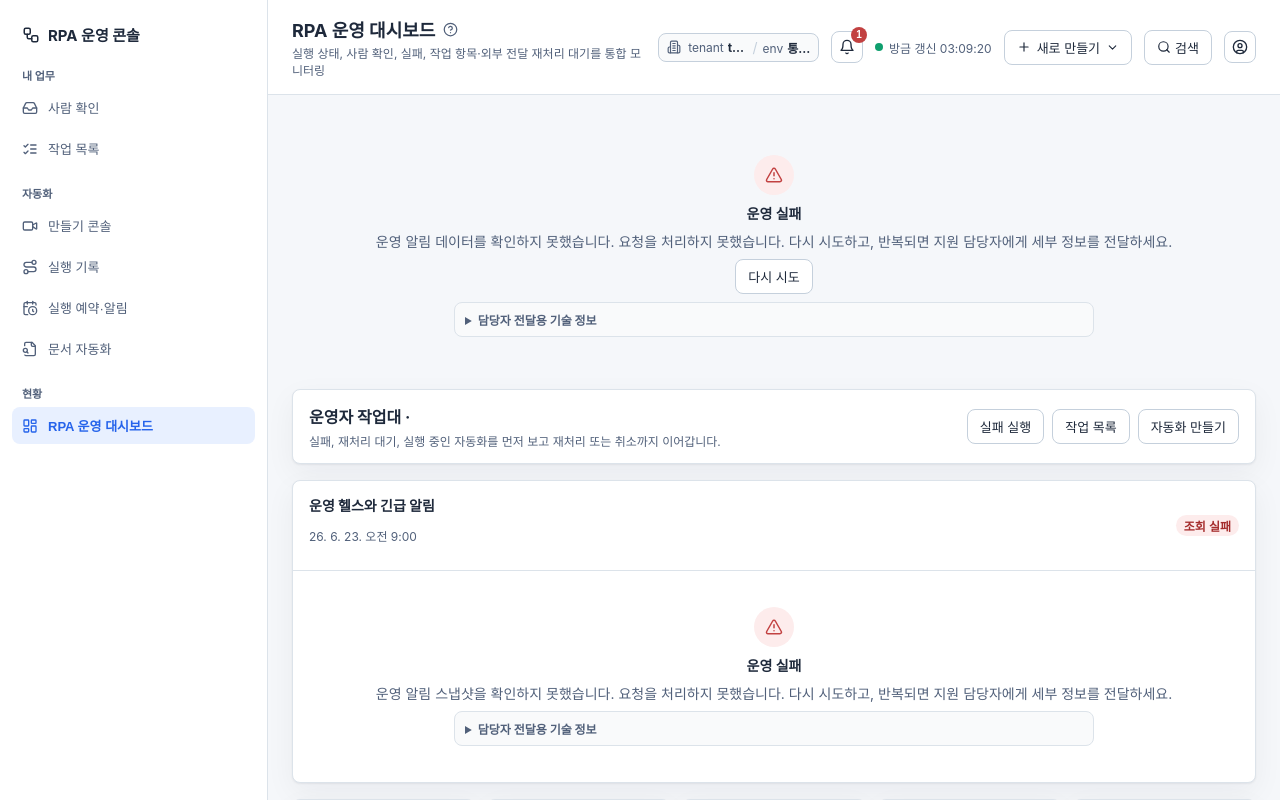
Test: topbar alert bell › keeps the bell with an honest label when alerts fail but readiness is blocked
Click the button named "운영 전환 준비 차단 2건 · 운영 알림 확인 불가": point(847, 47) [831,31,863,63]
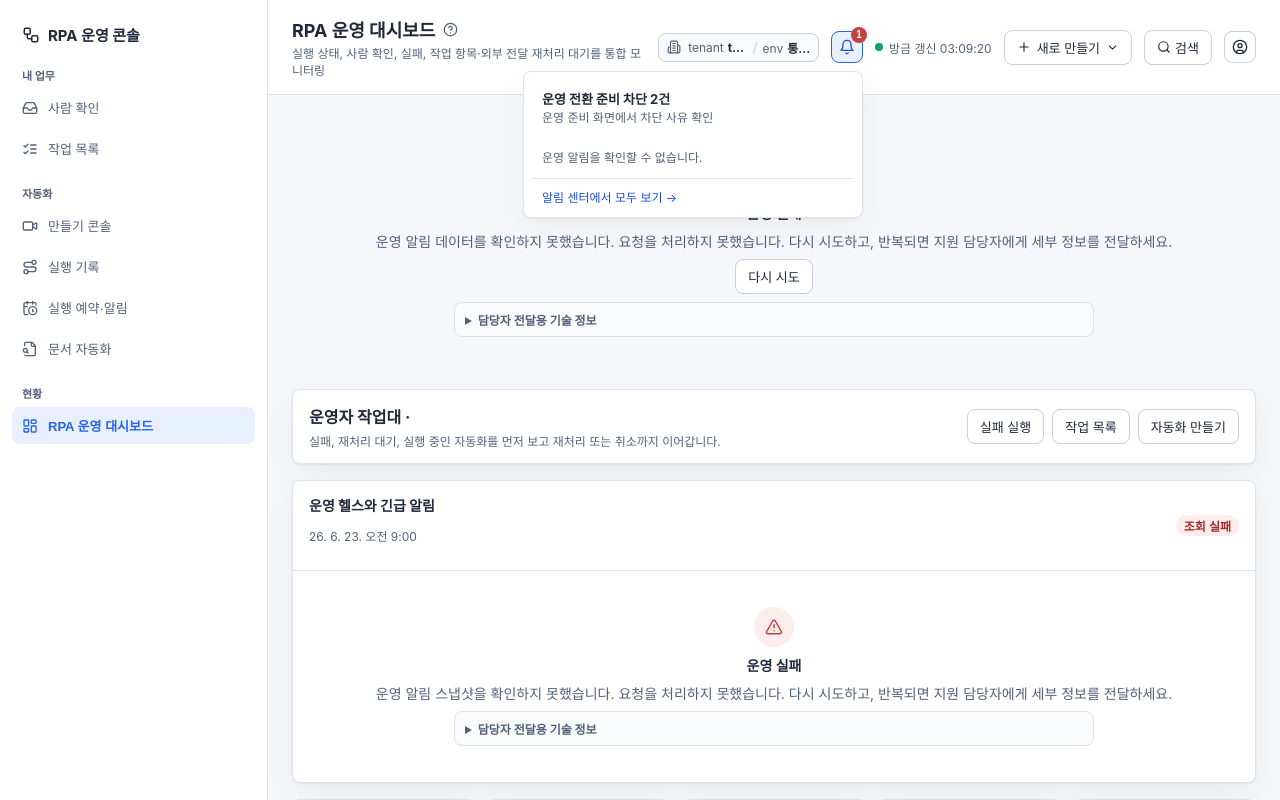
Expected: the menu item "운영 알림을 확인할 수 없습니다." is shown, [542,150,702,165]
